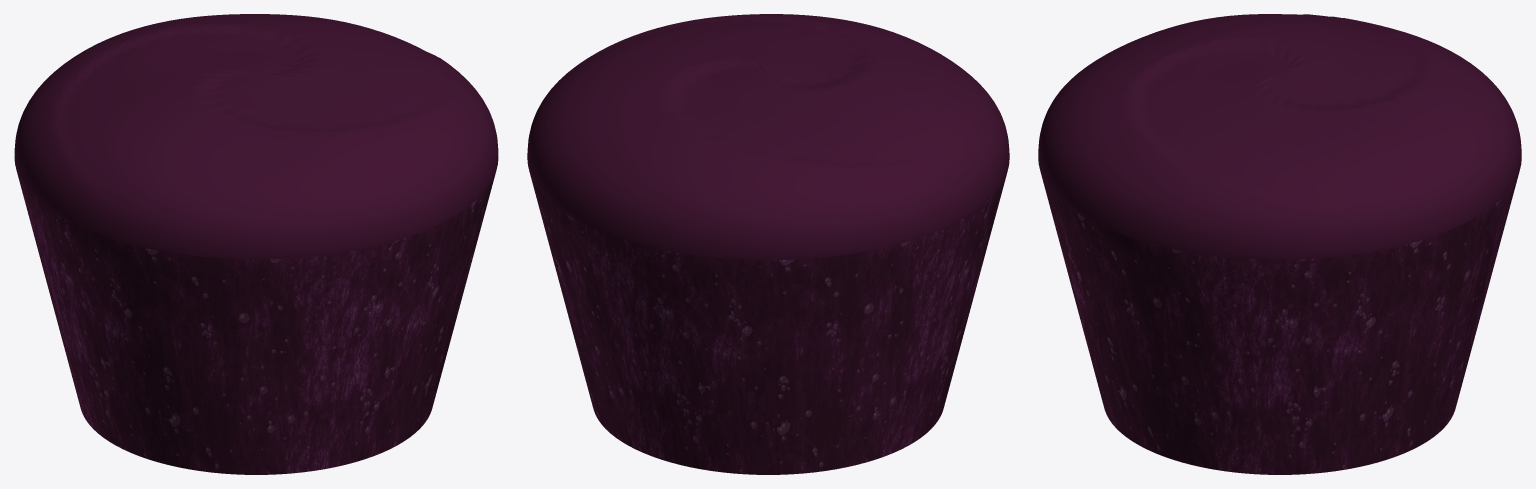
Rendered from base-acai-isopor-m.glb.
3 views of the same model, side by side, from view 1: azimuth 30°, elevation 25°; view 2: azimuth 150°, elevation 25°; view 3: azimuth 270°, elevation 25° (orthographic).
Visible parts, largest first — view 1: base-acai-isopor-m; view 2: base-acai-isopor-m; view 3: base-acai-isopor-m.
Part boxes in pixels (x1=…): base-acai-isopor-m: x1=14, y1=14, x2=498, y2=474; base-acai-isopor-m: x1=527, y1=14, x2=1009, y2=474; base-acai-isopor-m: x1=1038, y1=14, x2=1521, y2=474.
Size of the model in its own units: 0.1145 by 0.0857 by 0.1145.
2 materials, 1 textured.
